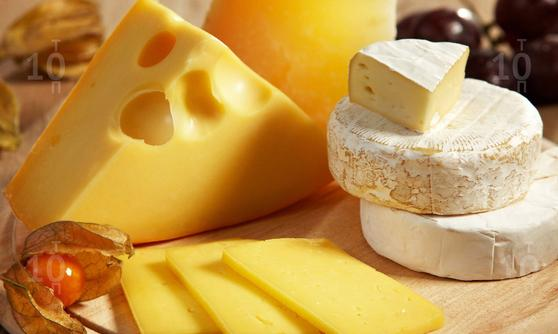cheese: (15, 5, 336, 237)
